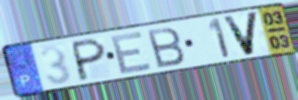1: (207, 16, 233, 59)
3: (39, 43, 73, 86)
B: (144, 25, 187, 70)
E: (109, 29, 155, 77)
P: (71, 36, 108, 83)
V: (219, 9, 261, 57)
